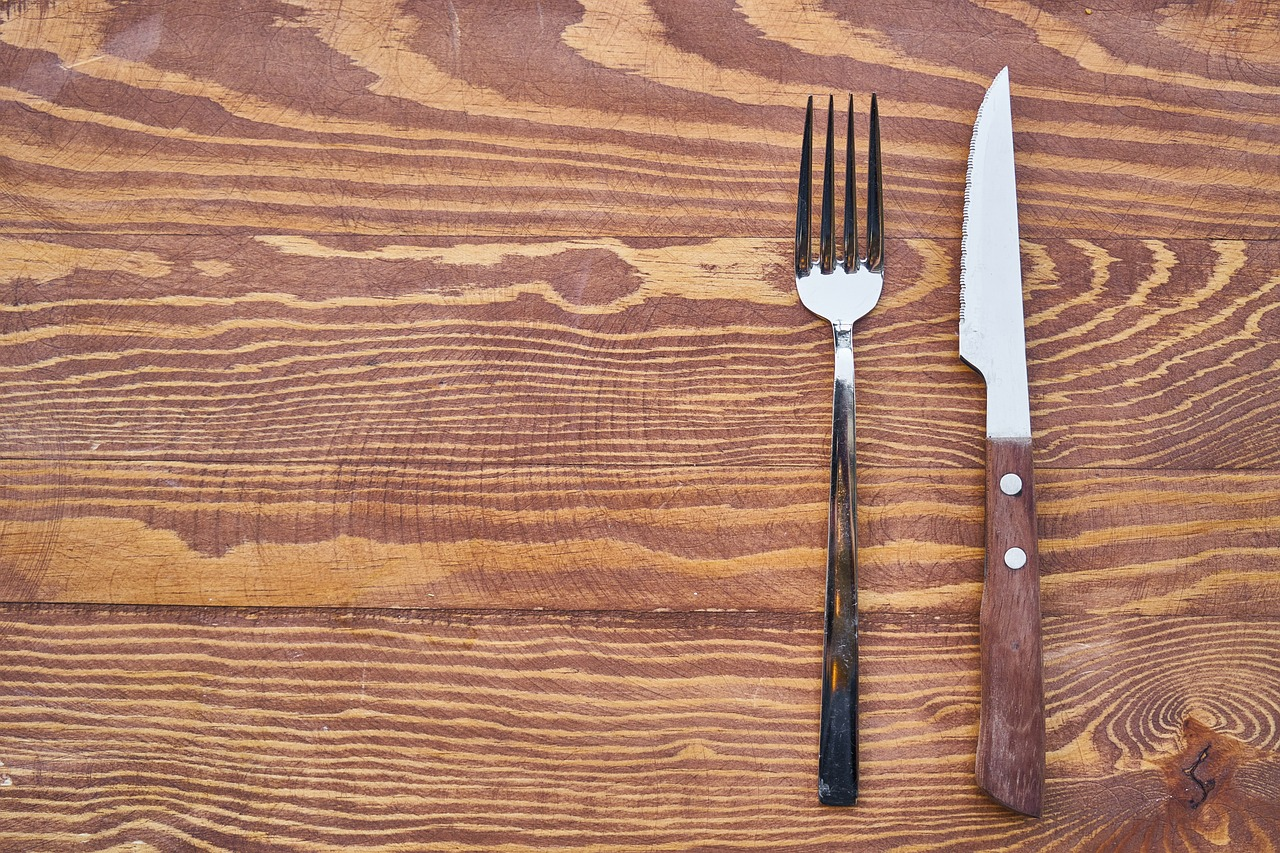knife: (956, 62, 1051, 824)
